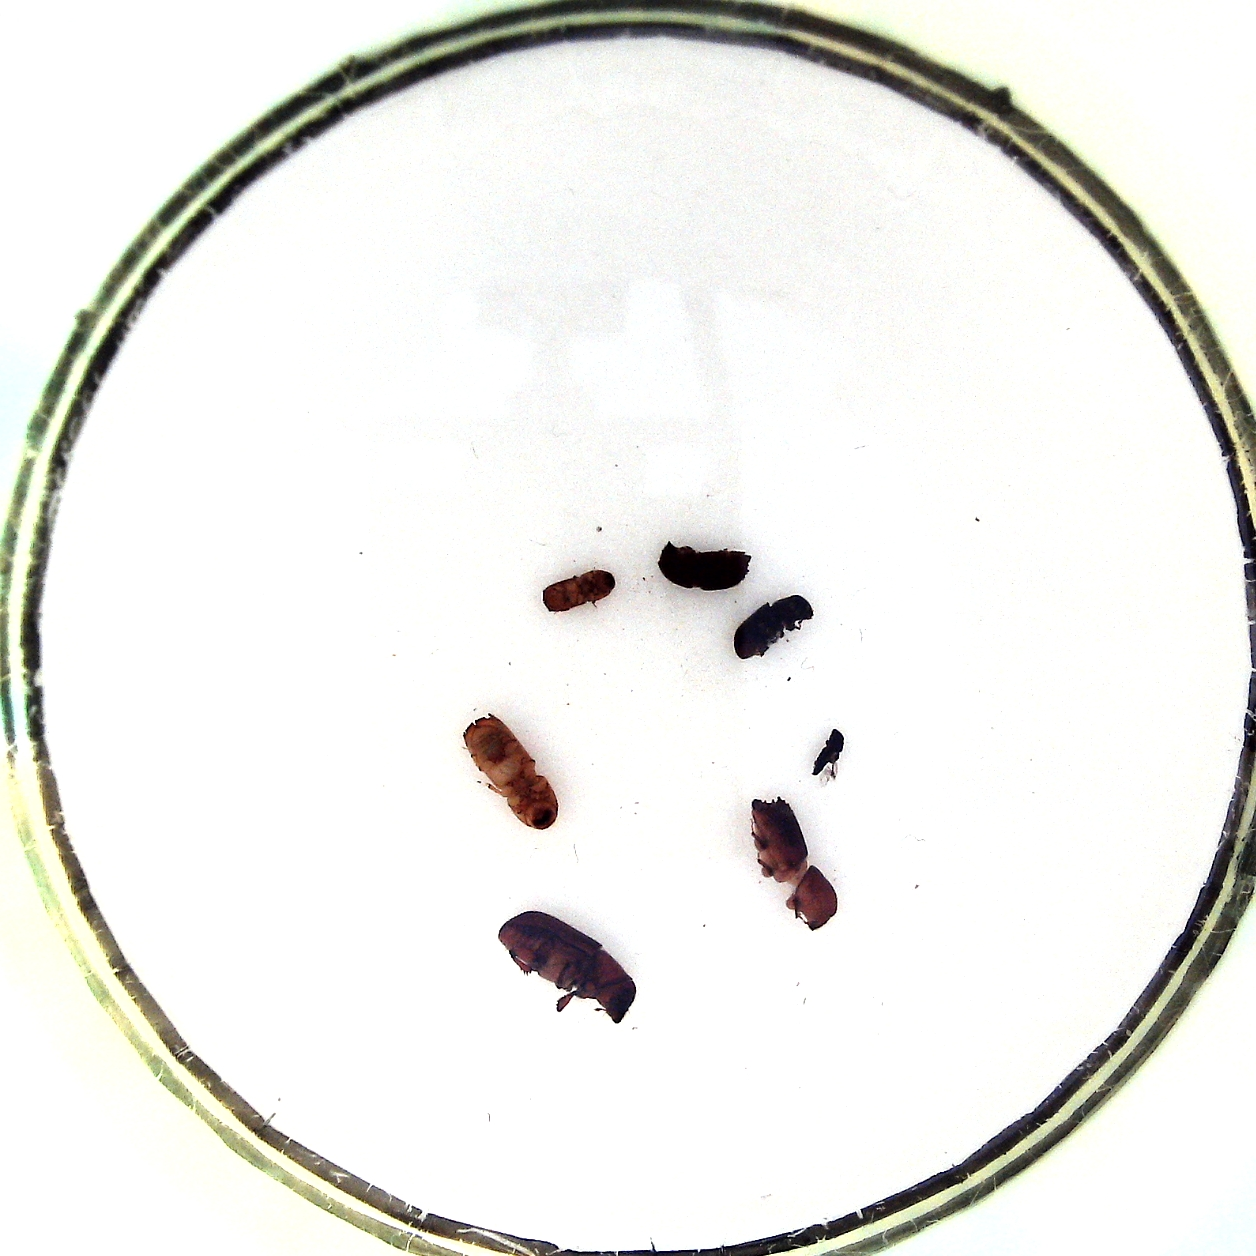Boerner: (746, 792, 838, 932), (459, 712, 559, 834)
Leconte: (495, 906, 640, 1029)
Linnaeus: (659, 537, 753, 591)
acuminatus: (541, 568, 621, 614)
armandi: (728, 591, 820, 660)
coleoptera: (810, 729, 848, 783)
